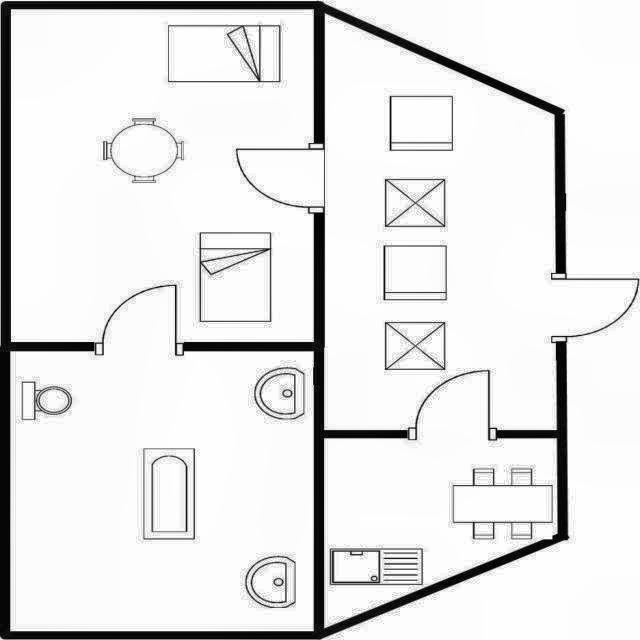room: (11, 9, 314, 342), (324, 13, 557, 430), (10, 351, 314, 631), (324, 438, 557, 629)
